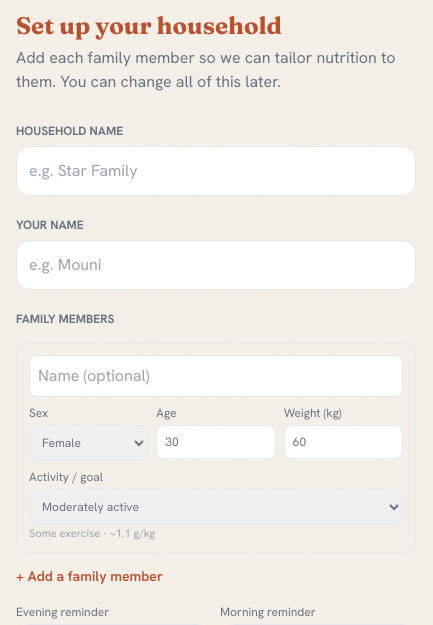
Onboarding › removes a member row
Click the button "+ Add a family member".
click(89, 576)  # box [16,566,163,586]
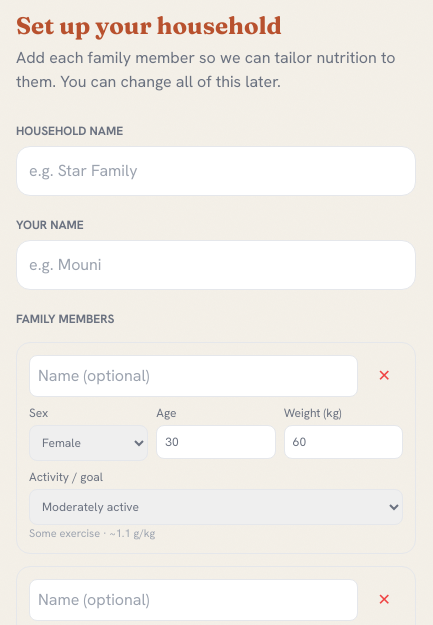
Click the button named "Remove member 1".
click(384, 376)  # box [366,355,403,397]
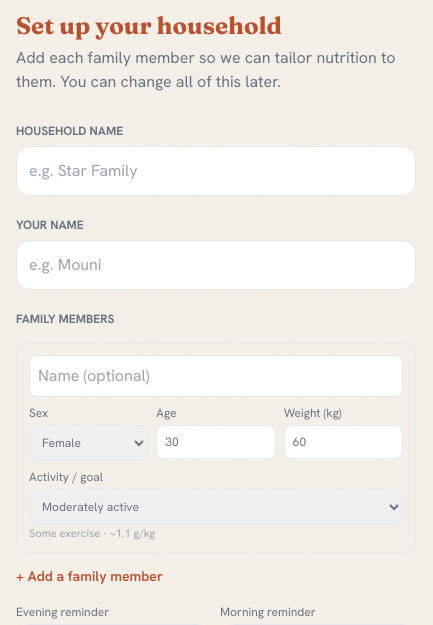
Expected: the field named "Member 1 name" is shown, [29,355,403,397]
